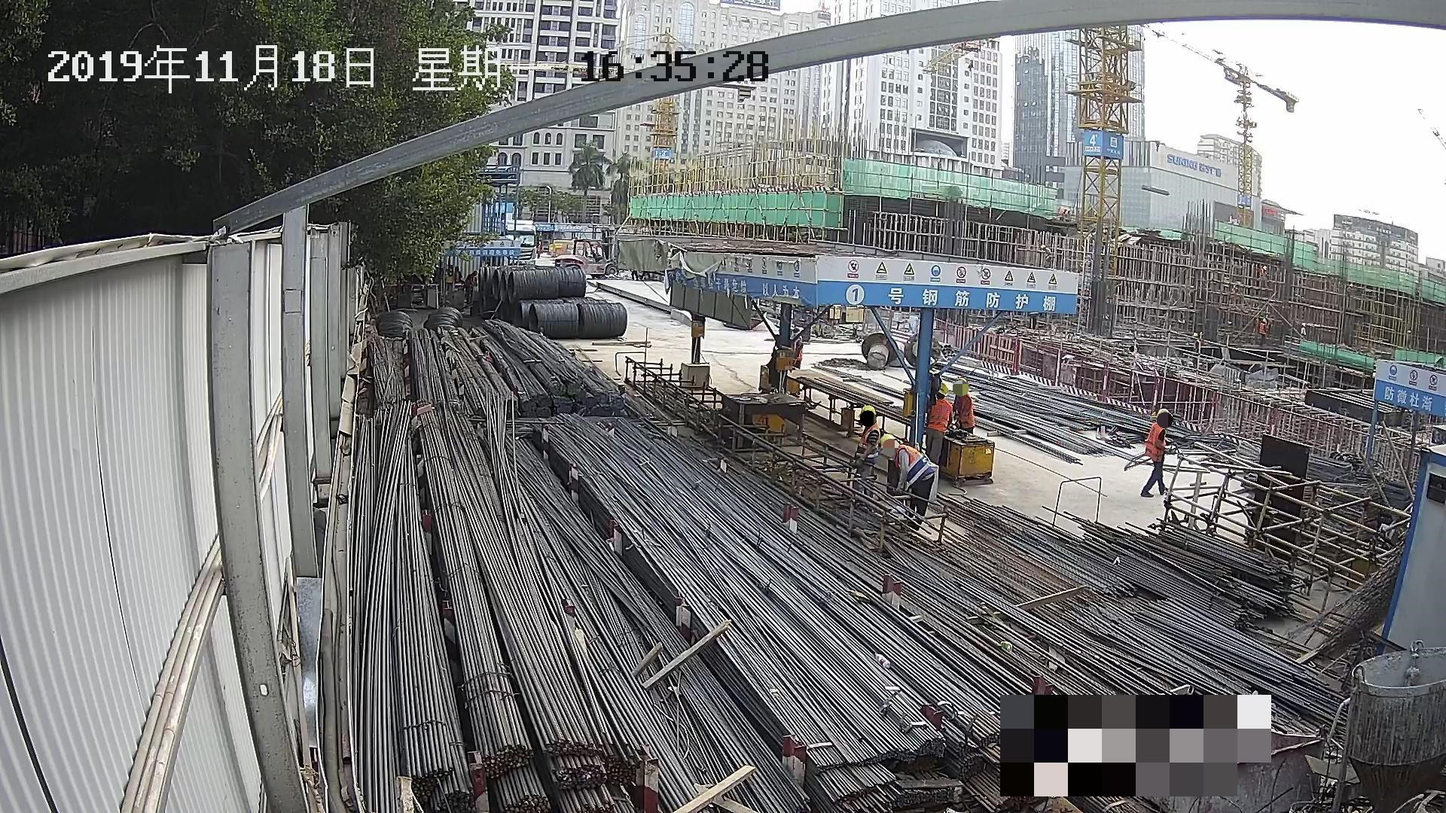hat: (858, 406, 875, 427), (881, 436, 898, 453), (1156, 410, 1173, 426), (935, 382, 948, 400), (955, 378, 968, 394)
person: (878, 434, 936, 534), (1140, 408, 1174, 499), (852, 403, 880, 494), (925, 380, 953, 464), (950, 378, 975, 434)
